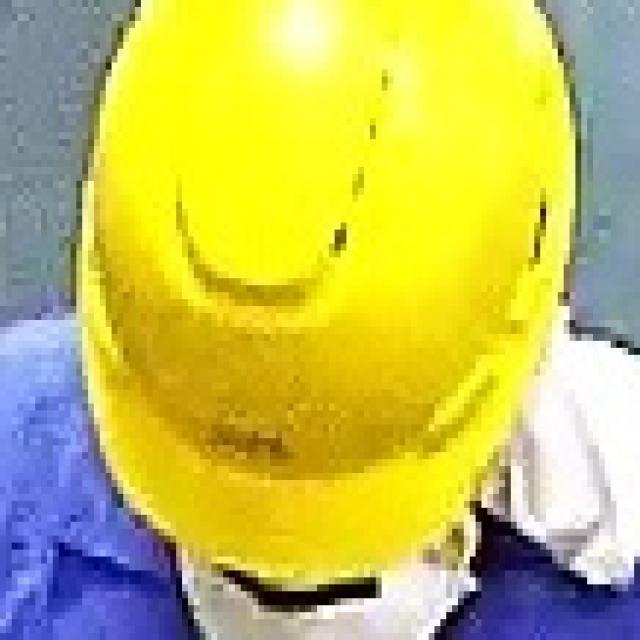yellow helmet: (77, 1, 585, 583)
